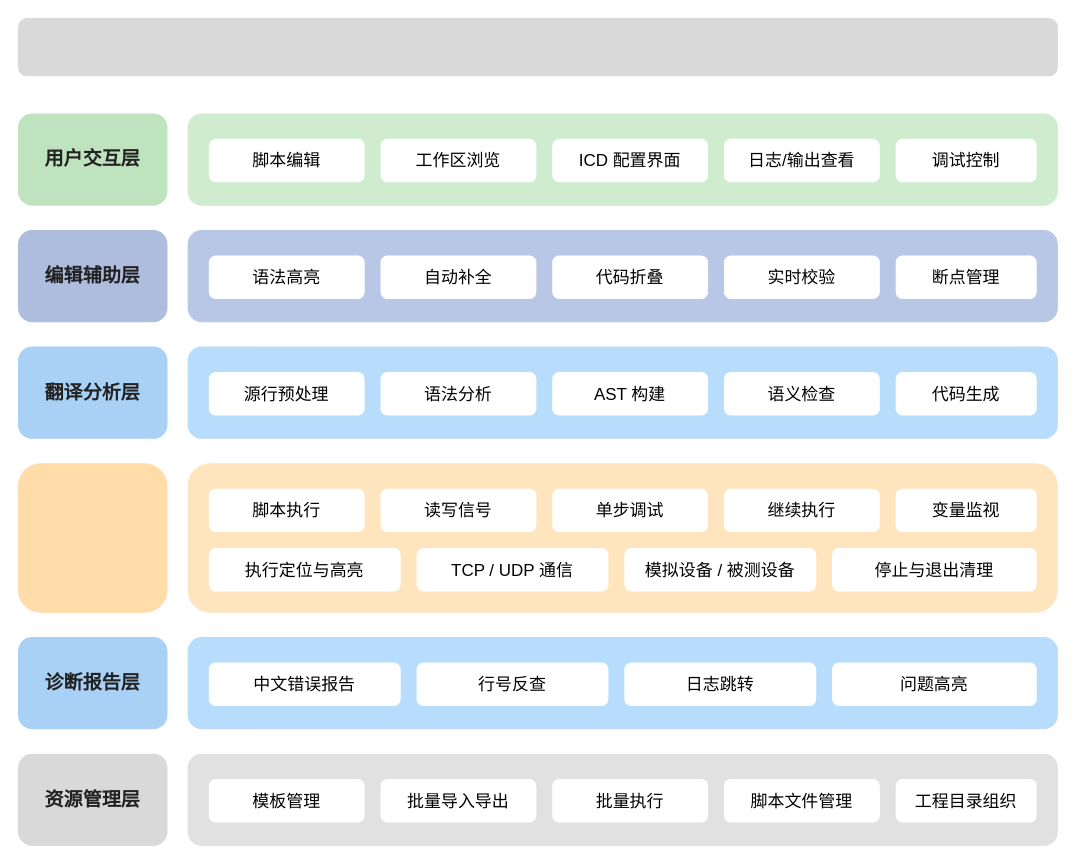
The diagram is 1076 pixels wide and 864 high, and some of its shapes have lost their labels. Here are the shapes that lost their labels. From the top down, the centre of each, then its label:
At point (537, 46): "功能模块架构".
At point (92, 537): "执行调试层".
